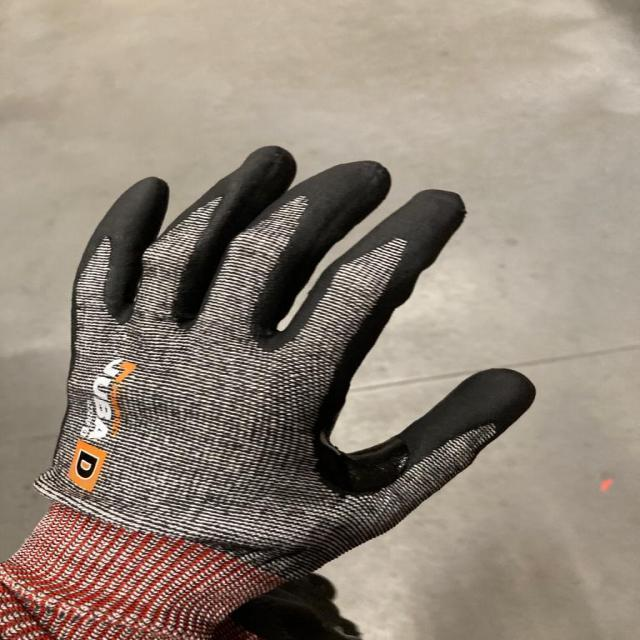gloved_hand: (34, 122, 556, 611)
